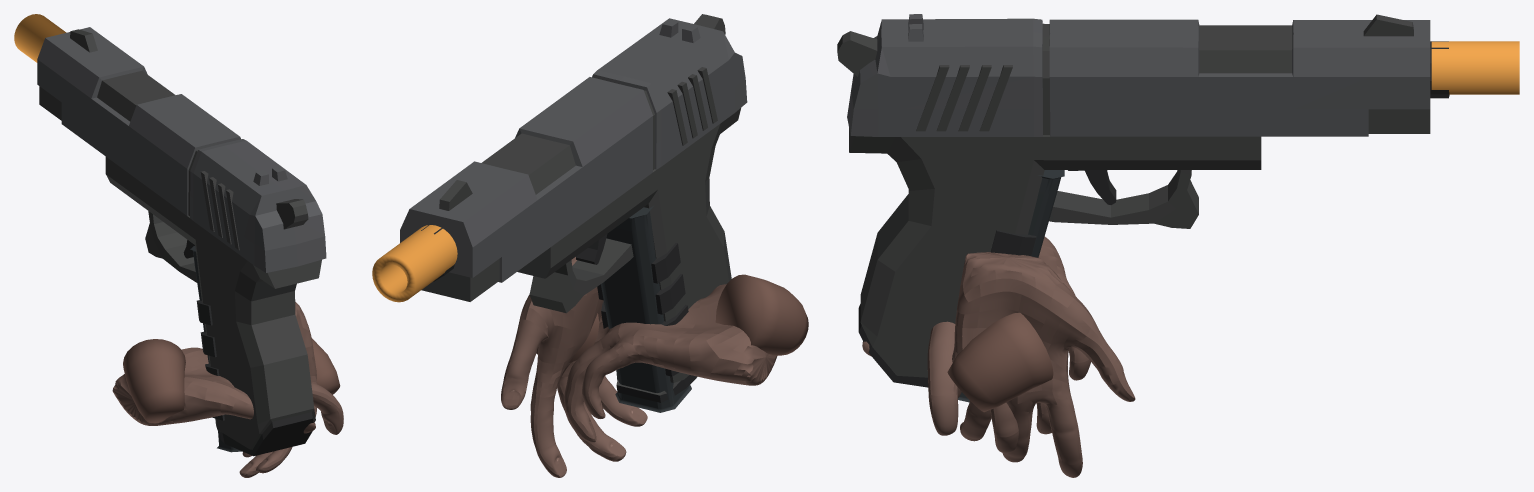
Rendered from echo.glb.
3 renders of one model, left to right at view 1: azimuth 30°, elevation 25°; view 2: azimuth 150°, elevation 25°; view 3: azimuth 270°, elevation 25°, orthographic. The views are drawn at different scales.
Visible parts, largest first — view 1: AUTHORED p226 ChargingHandleGeometry, AUTHORED p226 WeaponBodyGeometry, echo TWO_HAND LEFT REAL ANATOMICAL CC0 HAND, echo TWO_HAND LEFT short wrist stub, echo ONE_HAND RIGHT REAL ANATOMICAL CC0 HAND, AIRSOFT_ORANGE_TIP_07 - fitted hollow muzzle sleeve, echo ONE_HAND RIGHT short wrist stub, AUTHORED p226 MagazineGeometry; view 2: AUTHORED p226 ChargingHandleGeometry, AUTHORED p226 WeaponBodyGeometry, echo TWO_HAND LEFT REAL ANATOMICAL CC0 HAND, echo ONE_HAND RIGHT REAL ANATOMICAL CC0 HAND, AUTHORED p226 MagazineGeometry, echo TWO_HAND LEFT short wrist stub, AIRSOFT_ORANGE_TIP_07 - fitted hollow muzzle sleeve; view 3: AUTHORED p226 ChargingHandleGeometry, AUTHORED p226 WeaponBodyGeometry, echo ONE_HAND RIGHT REAL ANATOMICAL CC0 HAND, echo ONE_HAND RIGHT short wrist stub, echo TWO_HAND LEFT REAL ANATOMICAL CC0 HAND, AIRSOFT_ORANGE_TIP_07 - fitted hollow muzzle sleeve, AUTHORED p226 MagazineGeometry.
Boxes of the visible parts, box(x1,y1,x2,y2) form: AUTHORED p226 ChargingHandleGeometry: box(37, 27, 326, 272); AUTHORED p226 WeaponBodyGeometry: box(105, 157, 321, 456); echo TWO_HAND LEFT REAL ANATOMICAL CC0 HAND: box(112, 347, 343, 434); echo TWO_HAND LEFT short wrist stub: box(123, 339, 185, 423); echo ONE_HAND RIGHT REAL ANATOMICAL CC0 HAND: box(239, 302, 316, 477); AIRSOFT_ORANGE_TIP_07 - fitted hollow muzzle sleeve: box(14, 14, 66, 62); echo ONE_HAND RIGHT short wrist stub: box(311, 338, 340, 394); AUTHORED p226 MagazineGeometry: box(190, 246, 242, 452); AUTHORED p226 ChargingHandleGeometry: box(400, 18, 747, 301); AUTHORED p226 WeaponBodyGeometry: box(421, 14, 740, 402); echo TWO_HAND LEFT REAL ANATOMICAL CC0 HAND: box(564, 284, 777, 442); echo ONE_HAND RIGHT REAL ANATOMICAL CC0 HAND: box(501, 257, 647, 477); AUTHORED p226 MagazineGeometry: box(601, 206, 691, 412); echo TWO_HAND LEFT short wrist stub: box(715, 274, 808, 355); AIRSOFT_ORANGE_TIP_07 - fitted hollow muzzle sleeve: box(372, 225, 457, 302); AUTHORED p226 ChargingHandleGeometry: box(847, 14, 1430, 136); AUTHORED p226 WeaponBodyGeometry: box(837, 31, 1449, 392); echo ONE_HAND RIGHT REAL ANATOMICAL CC0 HAND: box(952, 252, 1135, 477); echo ONE_HAND RIGHT short wrist stub: box(947, 312, 1053, 412); echo TWO_HAND LEFT REAL ANATOMICAL CC0 HAND: box(862, 236, 1090, 453); AIRSOFT_ORANGE_TIP_07 - fitted hollow muzzle sleeve: box(1431, 41, 1519, 94); AUTHORED p226 MagazineGeometry: box(958, 170, 1064, 402).
Size of the model in its own units: 0.2277 by 0.3607 by 0.512.
